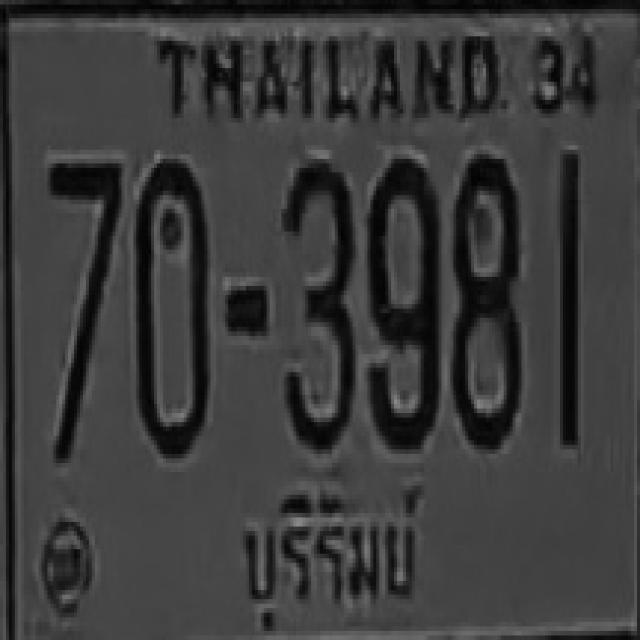0: (135, 157, 209, 456), (366, 154, 437, 450)
1: (557, 150, 581, 445)
3: (282, 156, 352, 452)
7: (47, 159, 121, 463)
8: (451, 152, 522, 447)
9: (368, 154, 438, 445)
Buriram: (223, 477, 436, 640)
